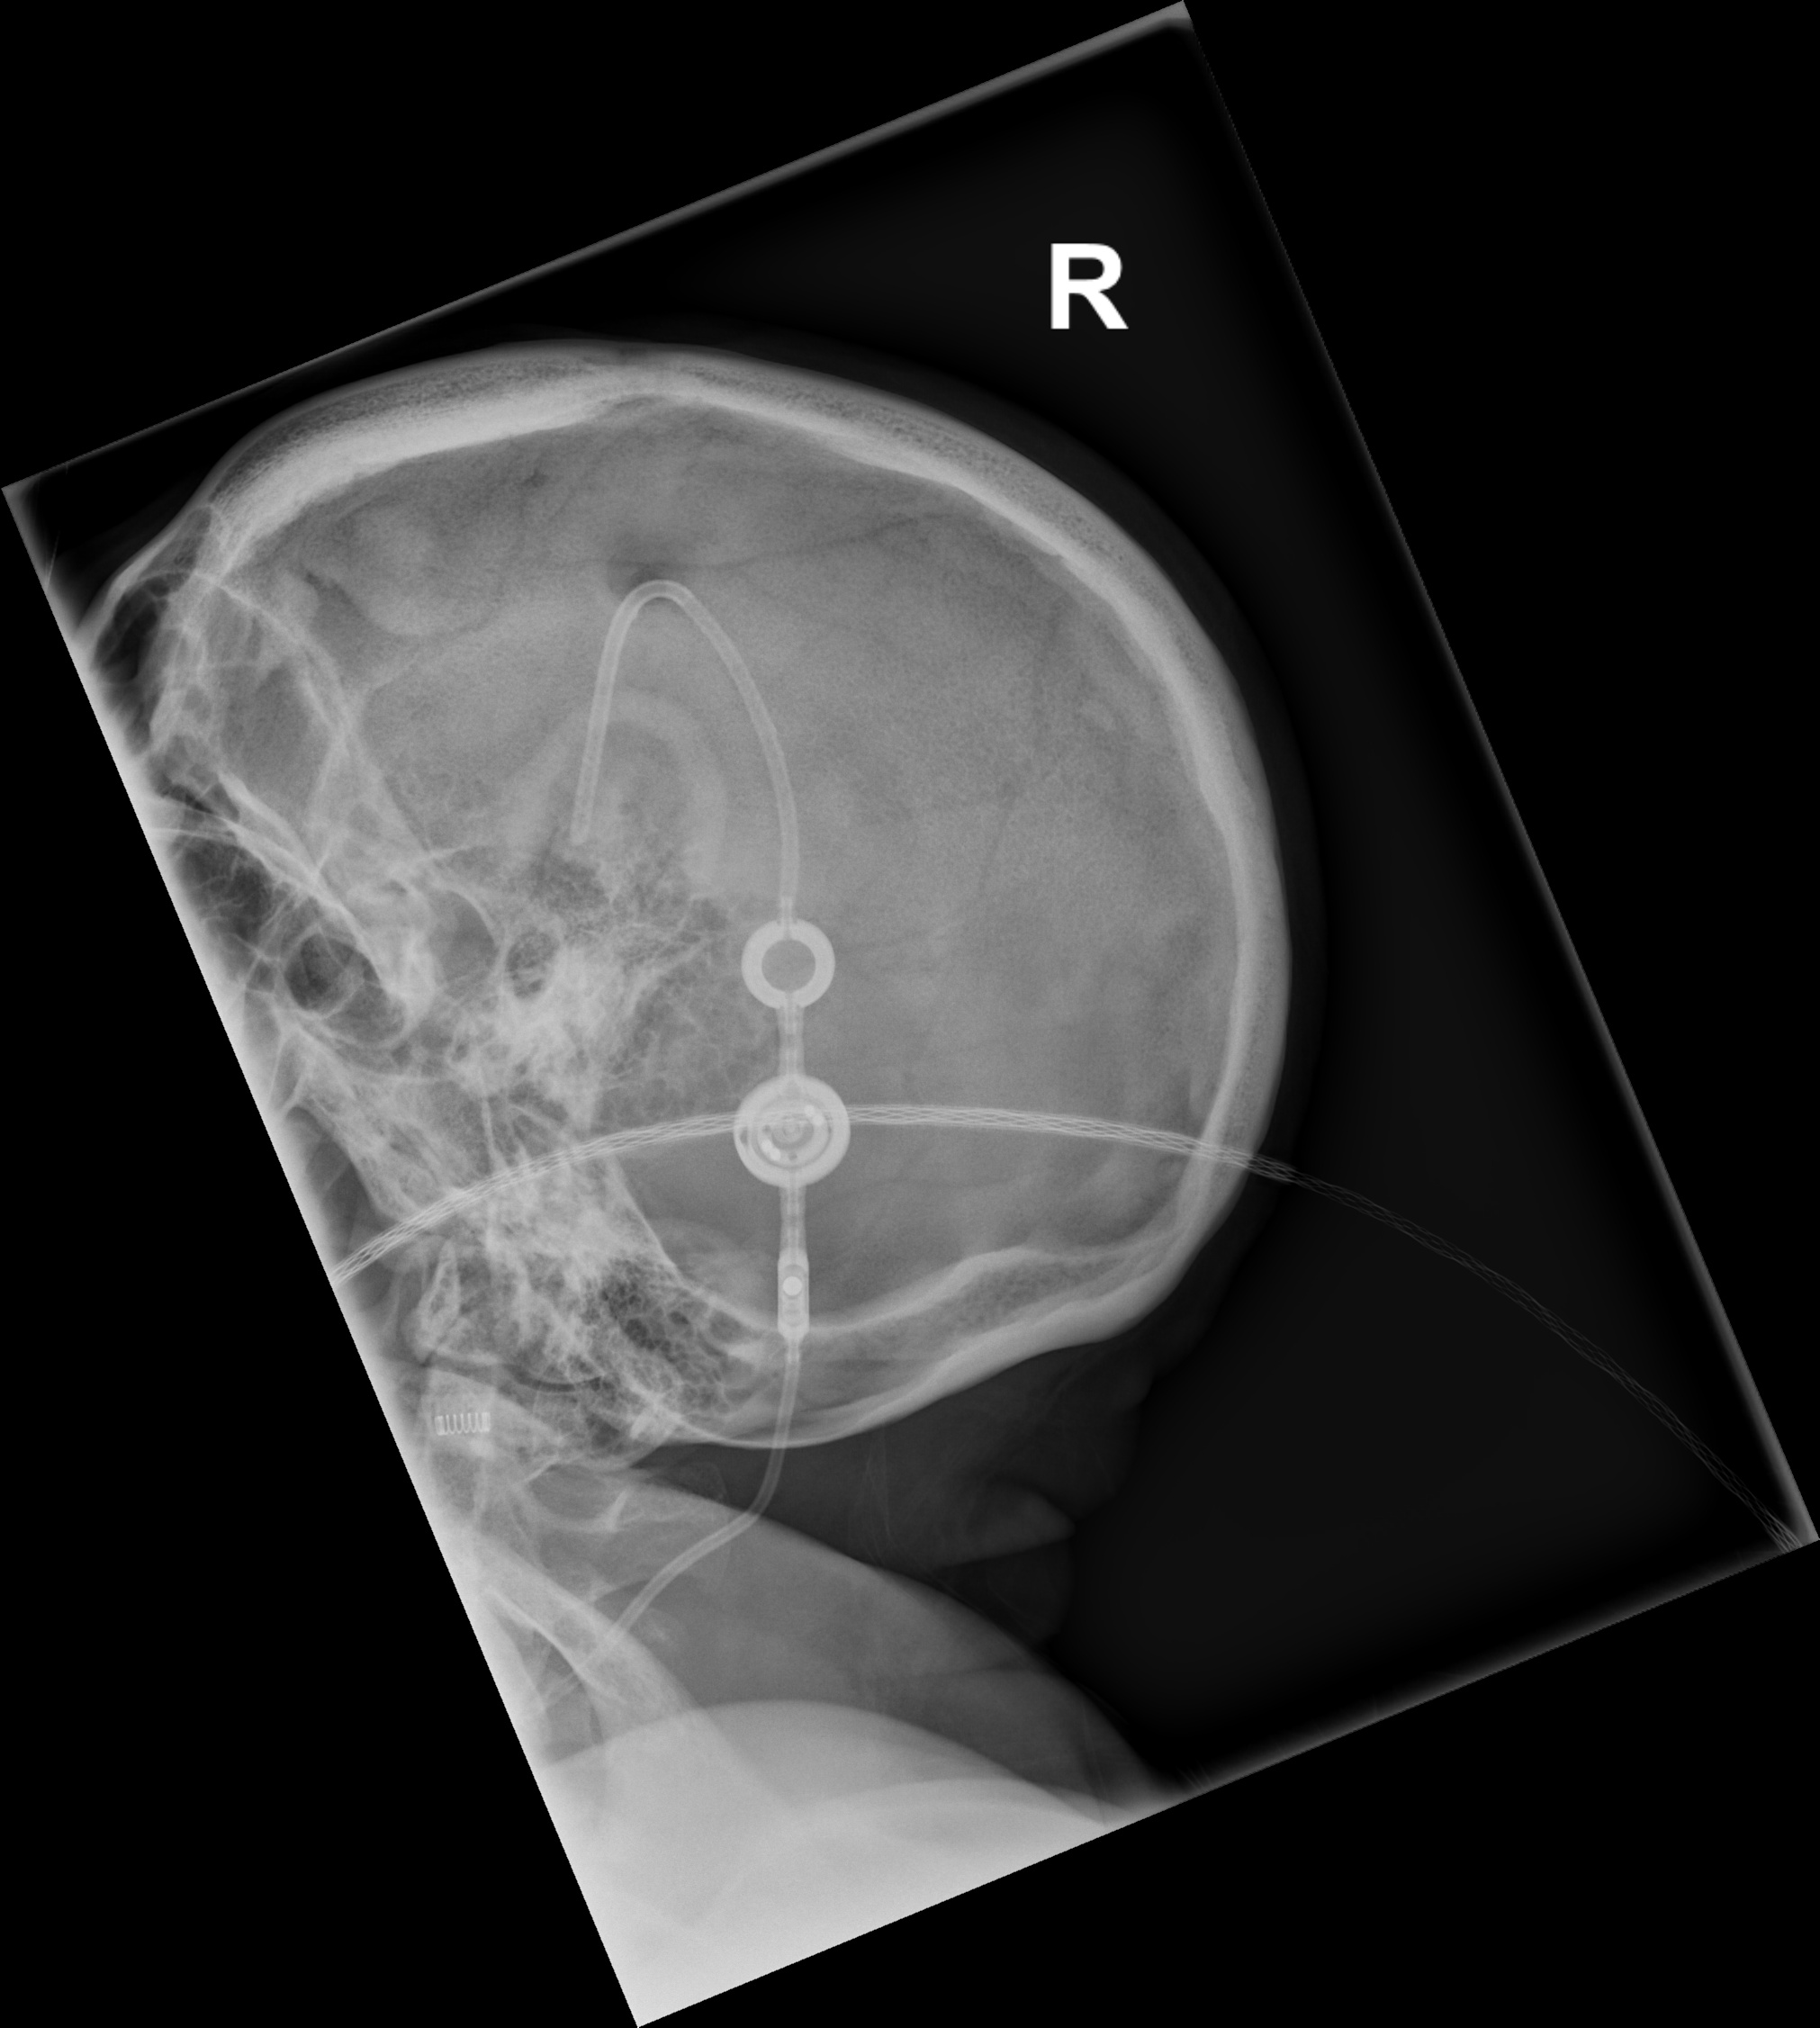proGAV 2.0: (729, 1065, 856, 1191)
proGAV Gravitationseinheit: (773, 1228, 815, 1350)
